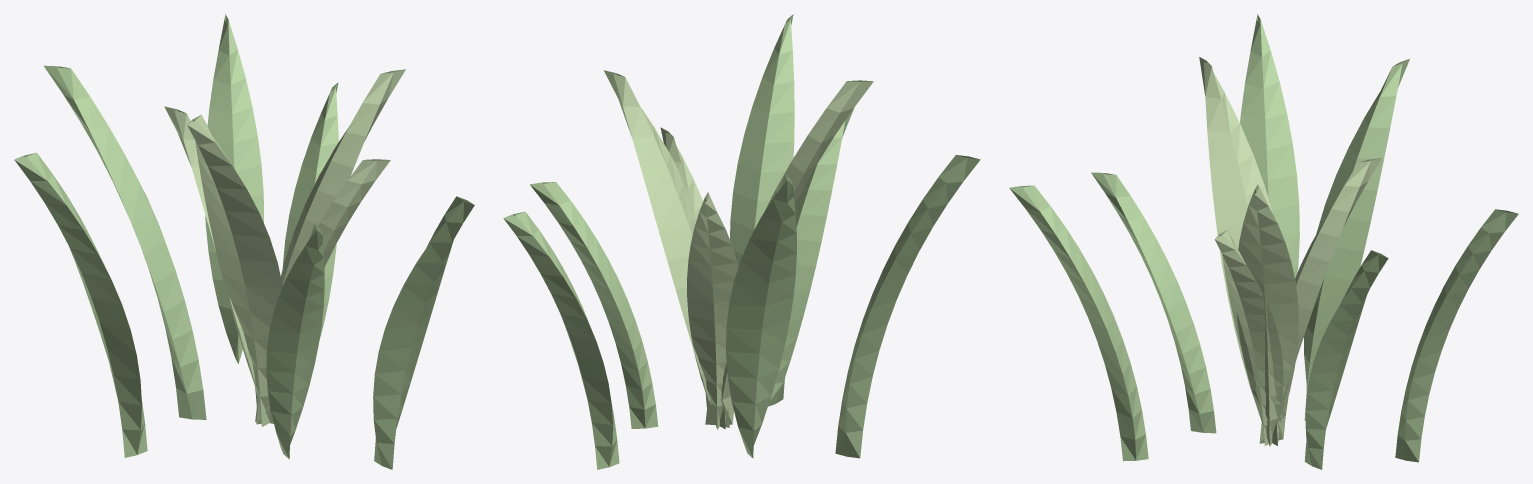
File: shore_grass_wide.glb
3 views of the same model, side by side, from view 1: azimuth 30°, elevation 25°; view 2: azimuth 150°, elevation 25°; view 3: azimuth 270°, elevation 25° (orthographic). The views are drawn at different scales.
Visible parts, largest first — view 1: shore_grass_wide_06, shore_grass_wide_04, shore_grass_wide_08, shore_grass_wide_05, shore_grass_wide_07, shore_grass_wide_02, shore_grass_wide_00, shore_grass_wide_01, shore_grass_wide_09, shore_grass_wide_03; view 2: shore_grass_wide_04, shore_grass_wide_05, shore_grass_wide_08, shore_grass_wide_03, shore_grass_wide_01, shore_grass_wide_00, shore_grass_wide_02, shore_grass_wide_07, shore_grass_wide_06, shore_grass_wide_09; view 3: shore_grass_wide_04, shore_grass_wide_08, shore_grass_wide_05, shore_grass_wide_00, shore_grass_wide_07, shore_grass_wide_02, shore_grass_wide_06, shore_grass_wide_01, shore_grass_wide_09, shore_grass_wide_03.
Part boxes in pixels (<box>): shore_grass_wide_06: <box>187,114,282,426</box>; shore_grass_wide_04: <box>44,65,206,419</box>; shore_grass_wide_08: <box>373,196,474,469</box>; shore_grass_wide_05: <box>14,152,147,457</box>; shore_grass_wide_07: <box>266,224,324,459</box>; shore_grass_wide_02: <box>205,14,264,363</box>; shore_grass_wide_00: <box>256,69,405,424</box>; shore_grass_wide_01: <box>282,82,338,340</box>; shore_grass_wide_09: <box>255,159,390,421</box>; shore_grass_wide_03: <box>164,106,273,423</box>; shore_grass_wide_04: <box>726,174,796,458</box>; shore_grass_wide_05: <box>835,155,980,458</box>; shore_grass_wide_08: <box>730,14,794,266</box>; shore_grass_wide_03: <box>687,192,738,429</box>; shore_grass_wide_01: <box>530,182,658,428</box>; shore_grass_wide_00: <box>604,70,729,427</box>; shore_grass_wide_02: <box>503,211,619,469</box>; shore_grass_wide_07: <box>768,107,854,406</box>; shore_grass_wide_06: <box>705,80,873,425</box>; shore_grass_wide_09: <box>660,127,725,429</box>; shore_grass_wide_04: <box>1303,59,1409,420</box>; shore_grass_wide_08: <box>1009,185,1148,461</box>; shore_grass_wide_05: <box>1240,14,1299,278</box>; shore_grass_wide_00: <box>1237,184,1298,446</box>; shore_grass_wide_07: <box>1091,172,1216,433</box>; shore_grass_wide_02: <box>1395,209,1518,462</box>; shore_grass_wide_06: <box>1199,57,1279,445</box>; shore_grass_wide_01: <box>1304,250,1388,469</box>; shore_grass_wide_09: <box>1214,230,1283,445</box>; shore_grass_wide_03: <box>1259,158,1381,443</box>.
Bounding box in the file's own units: 0.713 × 0.6127 × 0.8581.
